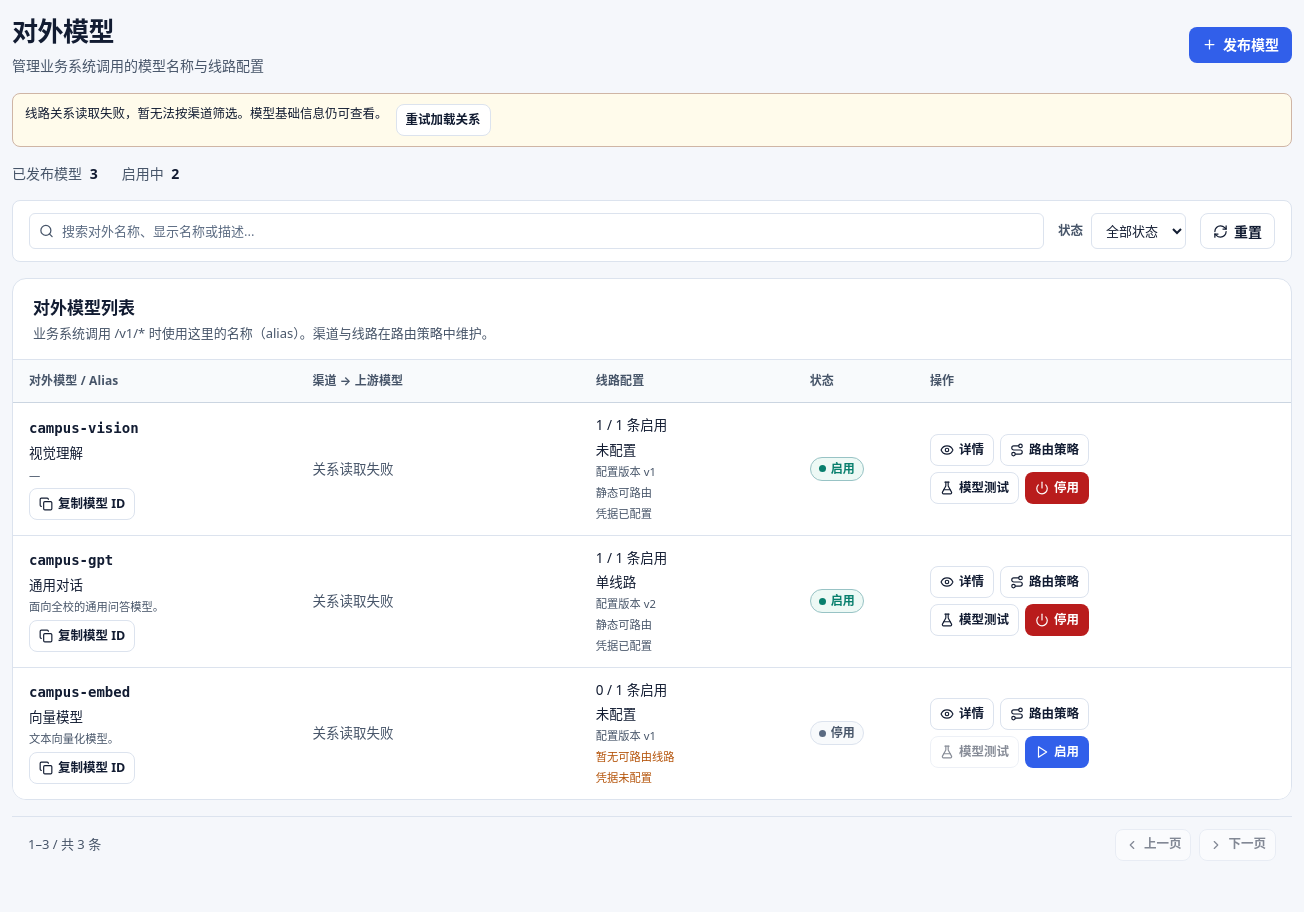
Test: PublishedModelsPage › keeps models visible when relationships fail and restores channel filtering after retry
Expected: the row "campus-vision" is shown, 13,403 -> 1291,535
Expected: the message shows "线路关系读取失败", 25,105 -> 125,122
Click the button "重试加载关系" at (443, 120), box 396,104 -> 490,136
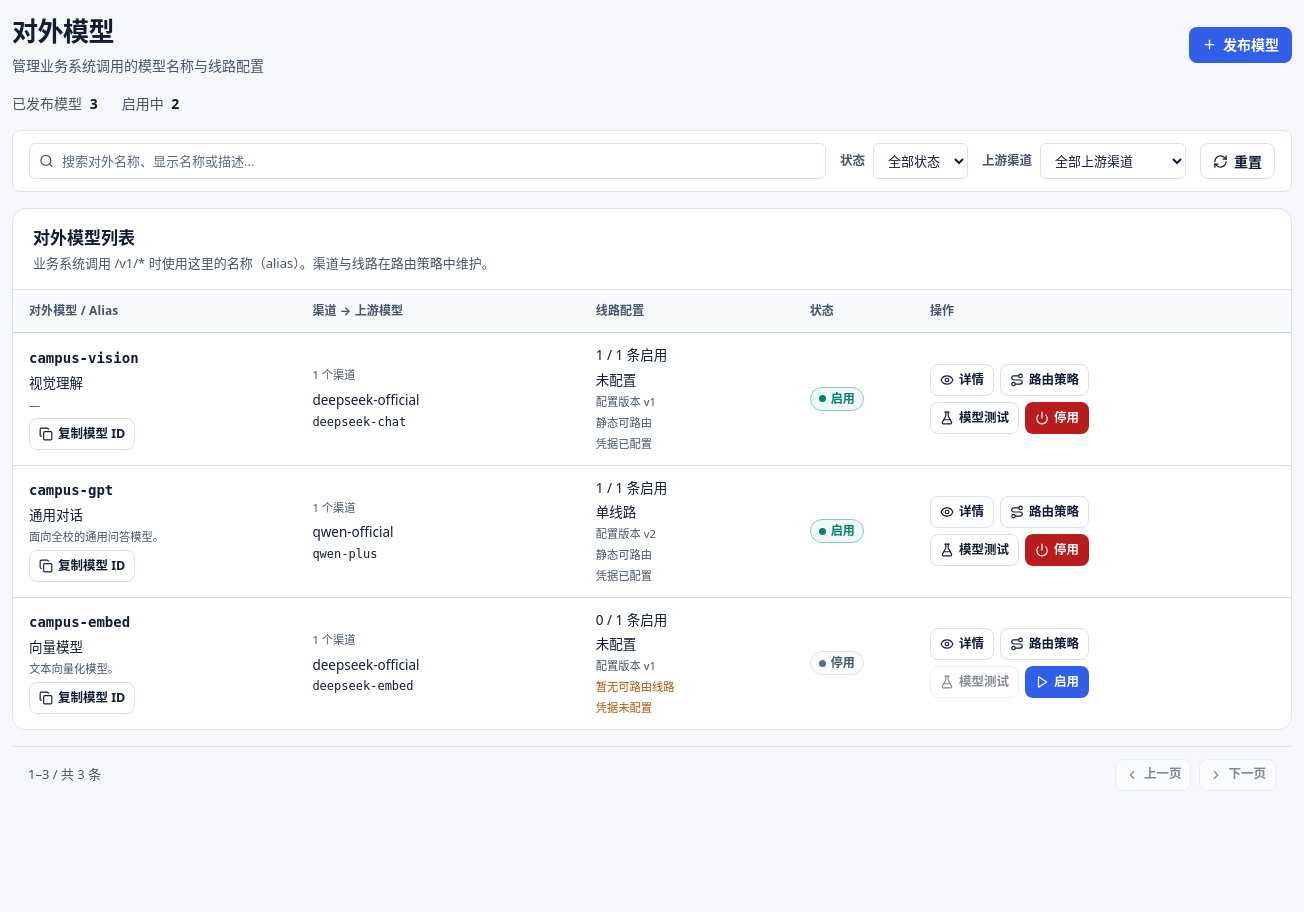
Expected: the dropdown labelled "上游渠道" is shown, 1040,143 -> 1186,179
